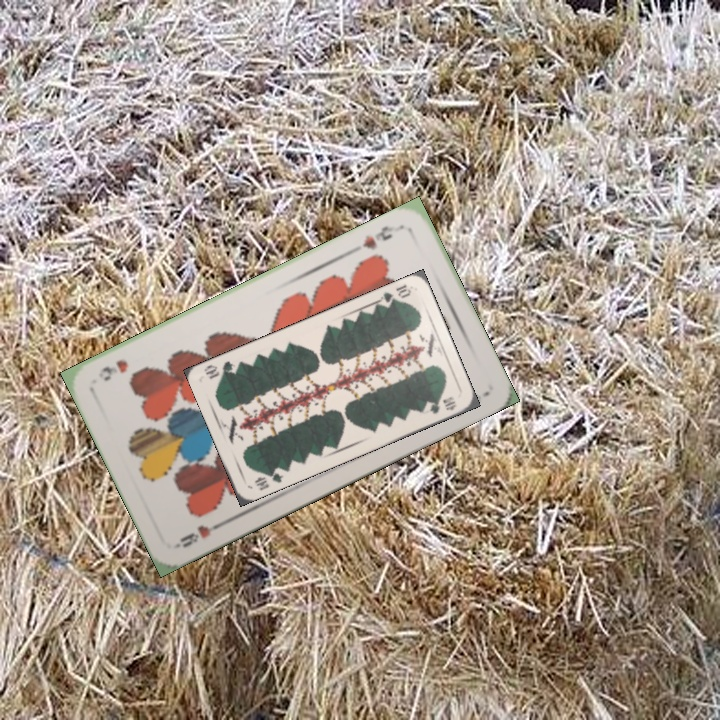G10: (374, 280, 414, 310), (250, 466, 285, 493)
H9: (172, 516, 228, 551), (358, 221, 406, 252)
